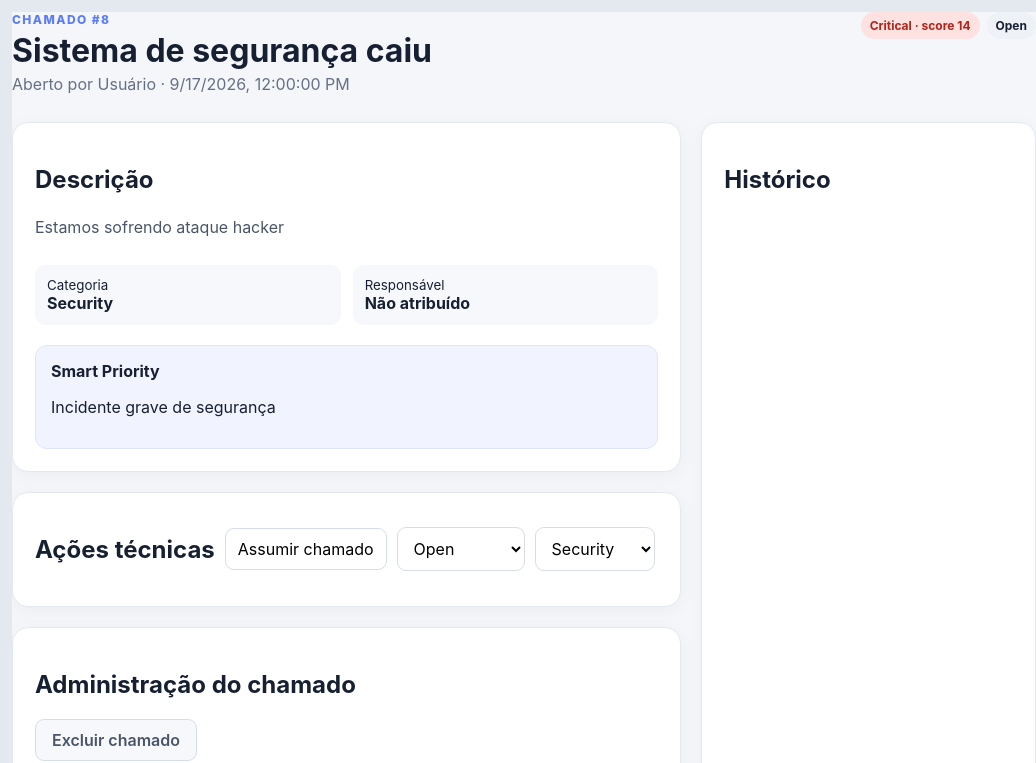
Test: TicketDetailsPage › shows a failed action without removing the ticket details
The image size is (1036, 763).
What coordinates should you click on to do the following:
click the button "Assumir chamado"
I would click on:
 (306, 549)
Its box is [225,528,387,570].
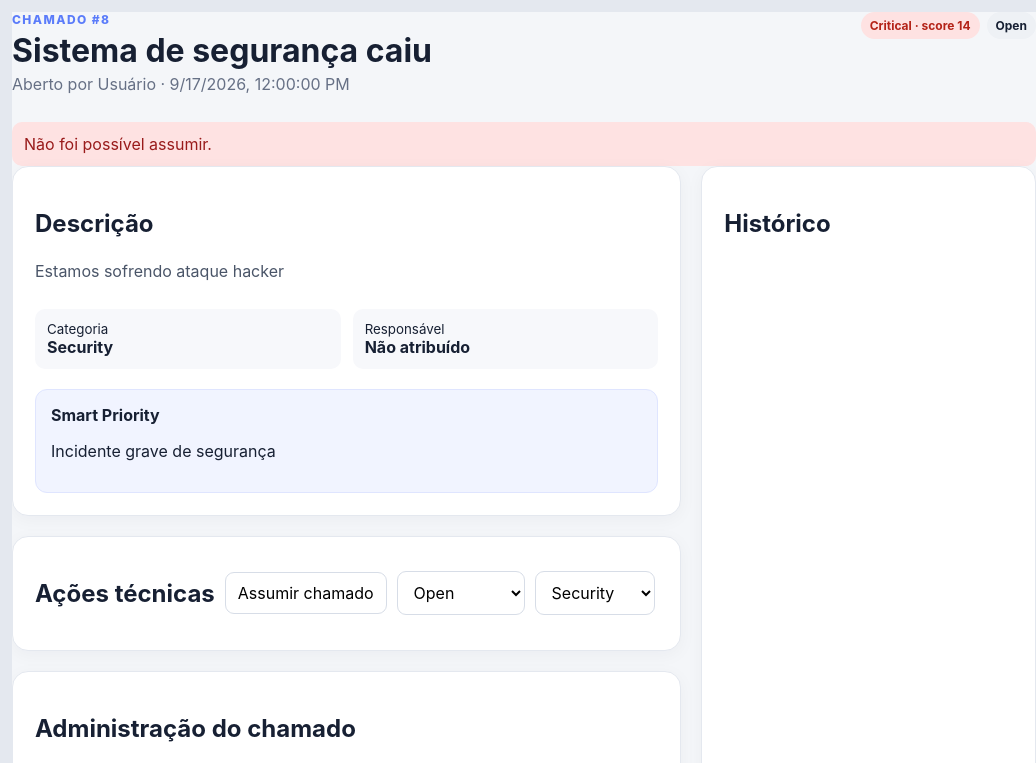
Expected: the heading "Sistema de segurança caiu" is shown, [12,31,432,70]
Expected: the message reads "Não foi possível assumir.", [24,134,212,154]
